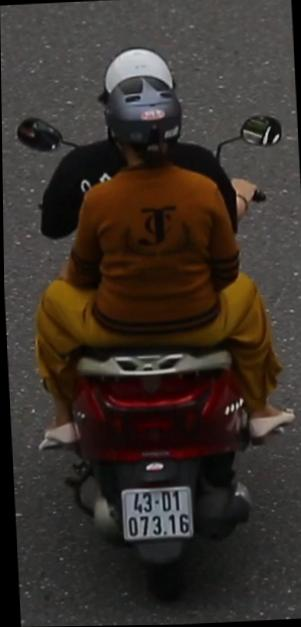LP: (113, 477, 198, 550)
helmet: (95, 70, 199, 186), (94, 41, 179, 94)
